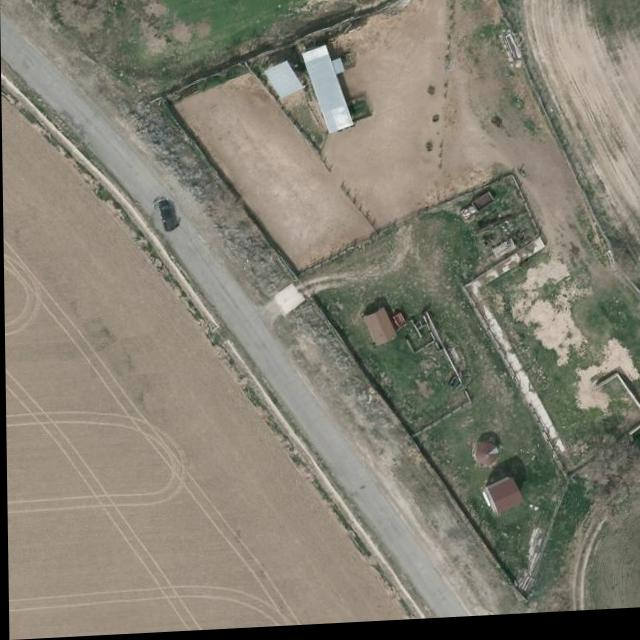vehicle: (148, 199, 181, 236)
